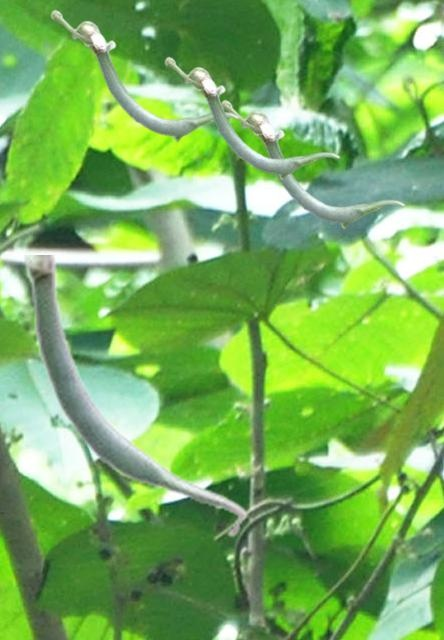french_bean: (23, 255, 247, 538), (50, 9, 238, 141), (222, 99, 404, 228), (164, 56, 339, 179)
